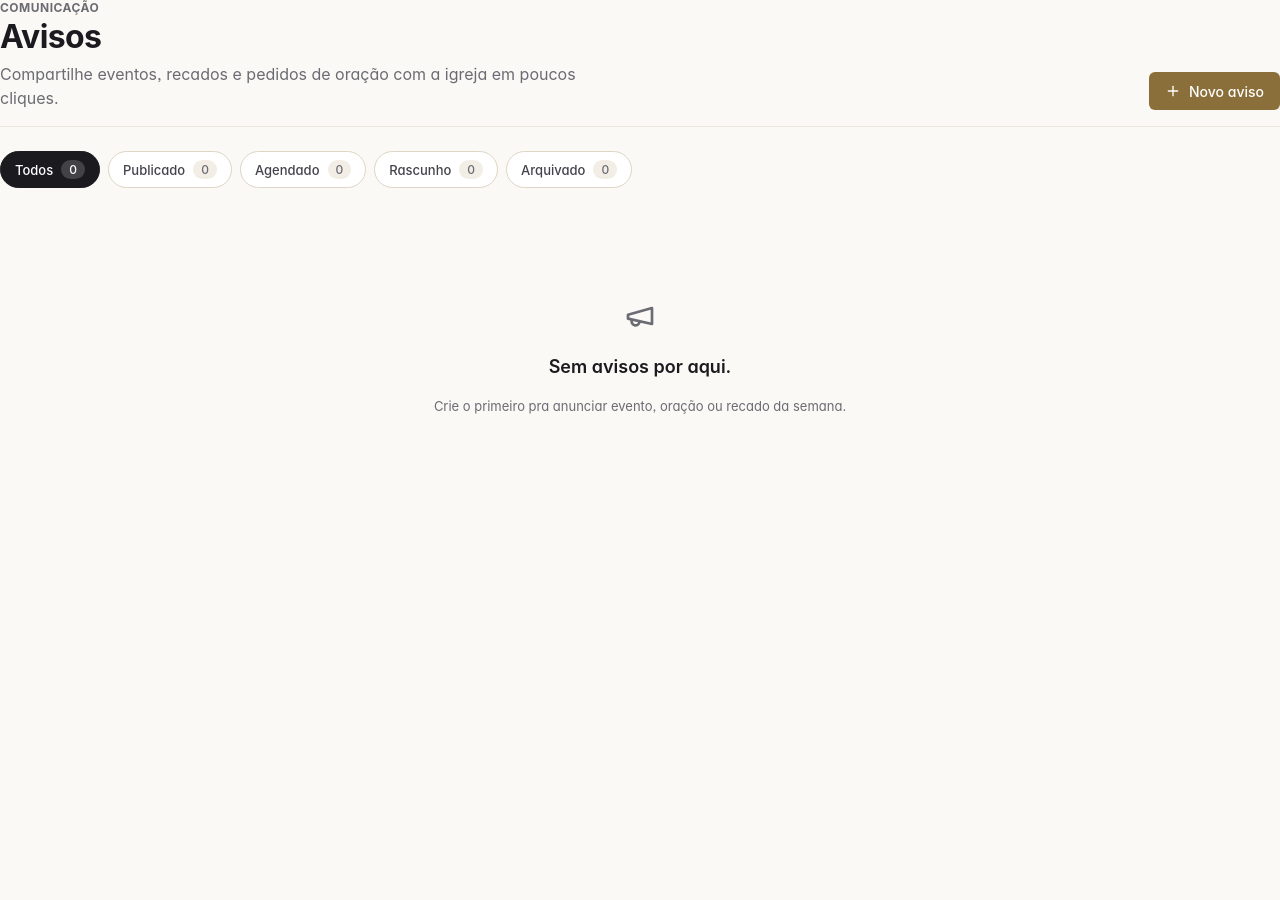
Test: AnnouncementsView › renders eyebrow tag (categoria) in the preview panel
This screenshot has width=1280, height=900.
Click the button "Novo aviso". click: coordinates (1214, 91)
box: [1149,72,1279,110]
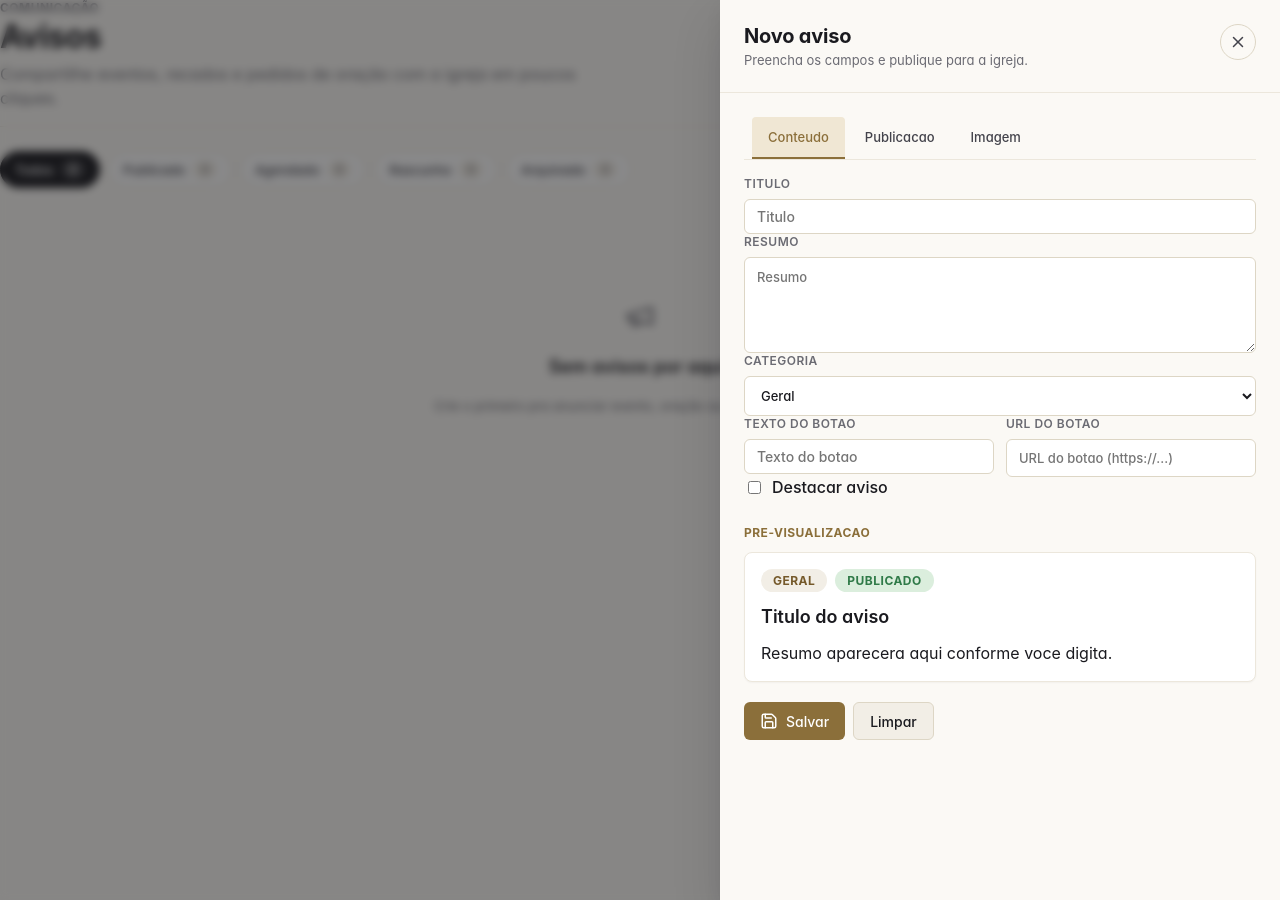
Type "Evento" into the field labelled "Titulo". click: coordinates (1000, 216)
box: [744,199,1256,234]
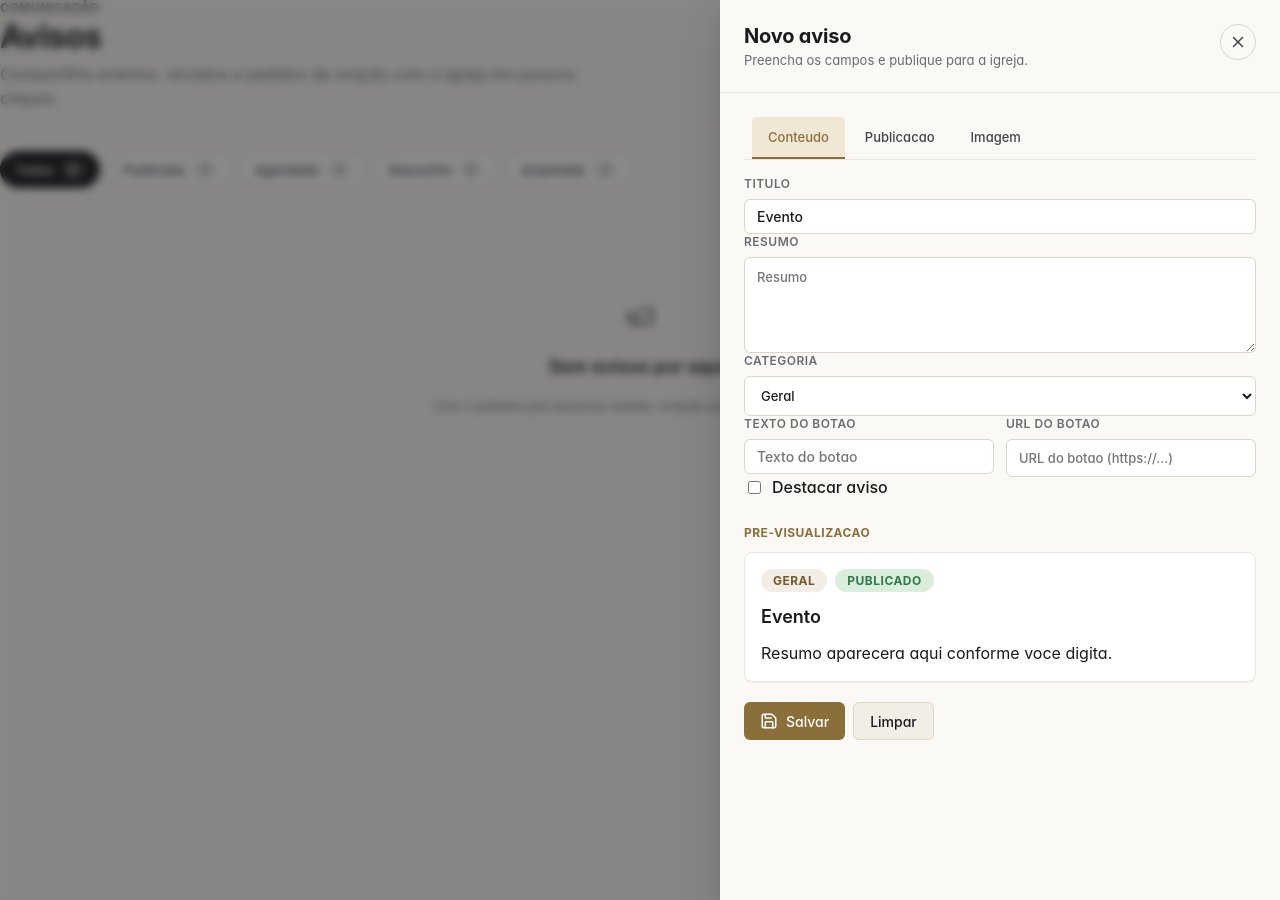
Select "Evento" in the dropdown labelled "Categoria". click: coordinates (1000, 396)
box: [744,376,1256,416]
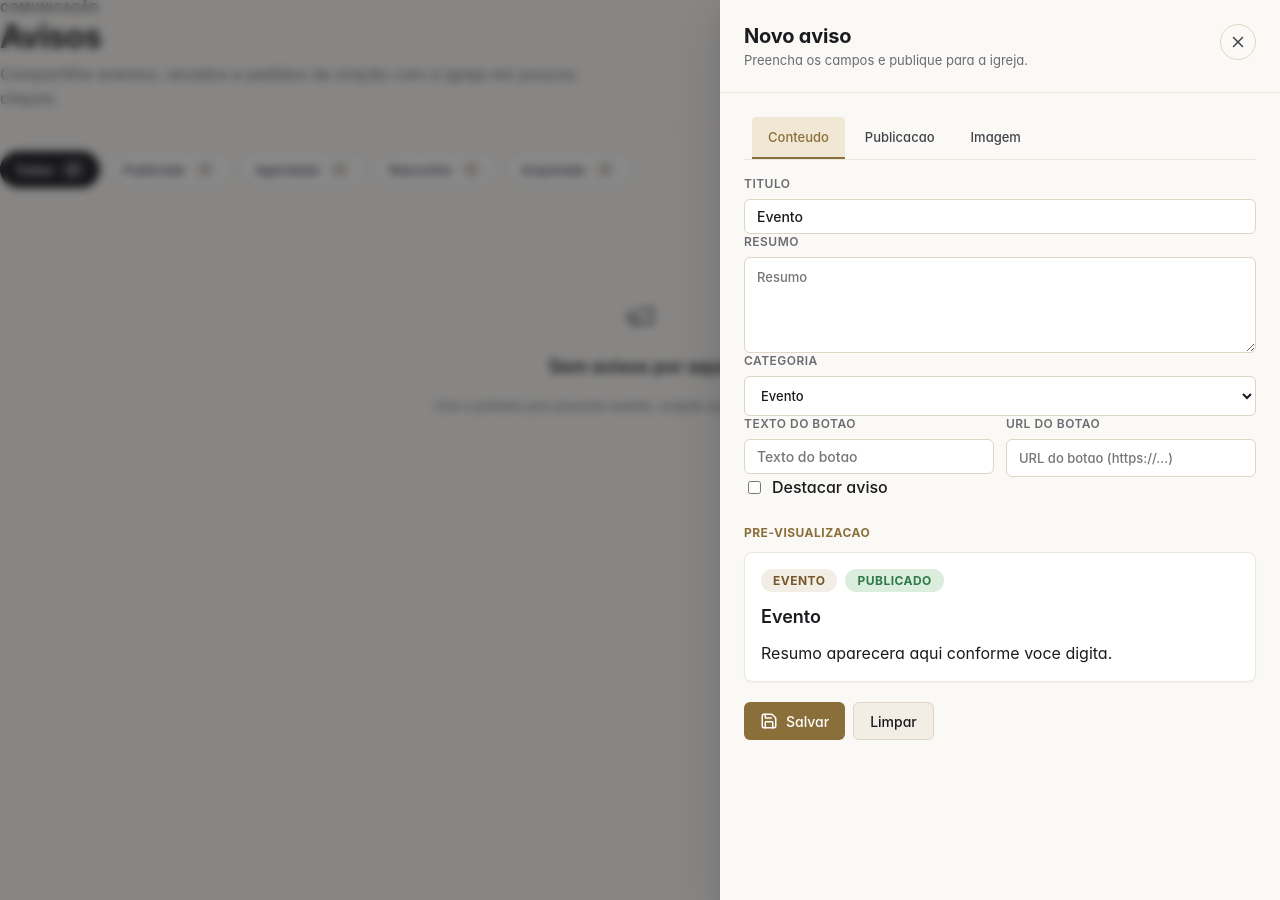
Expected: the text "Evento" is shown, [761,569,838,592]
Expected: the text with class "announcement-preview-badge" reads "Evento", [773,573,826,588]
